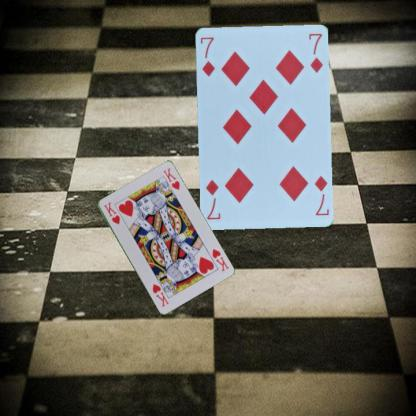7d: (197, 34, 216, 78), (312, 172, 330, 216)
Kh: (100, 200, 122, 226), (209, 246, 230, 273)
